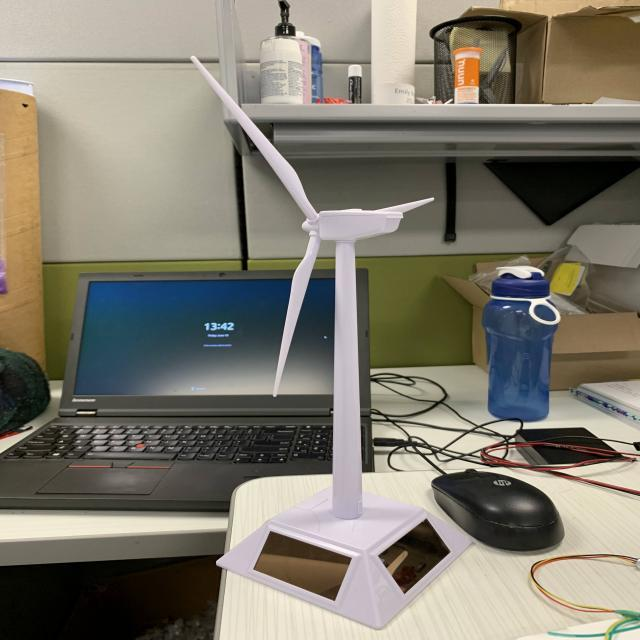solid-blade: (192, 56, 318, 222), (272, 238, 319, 396)
